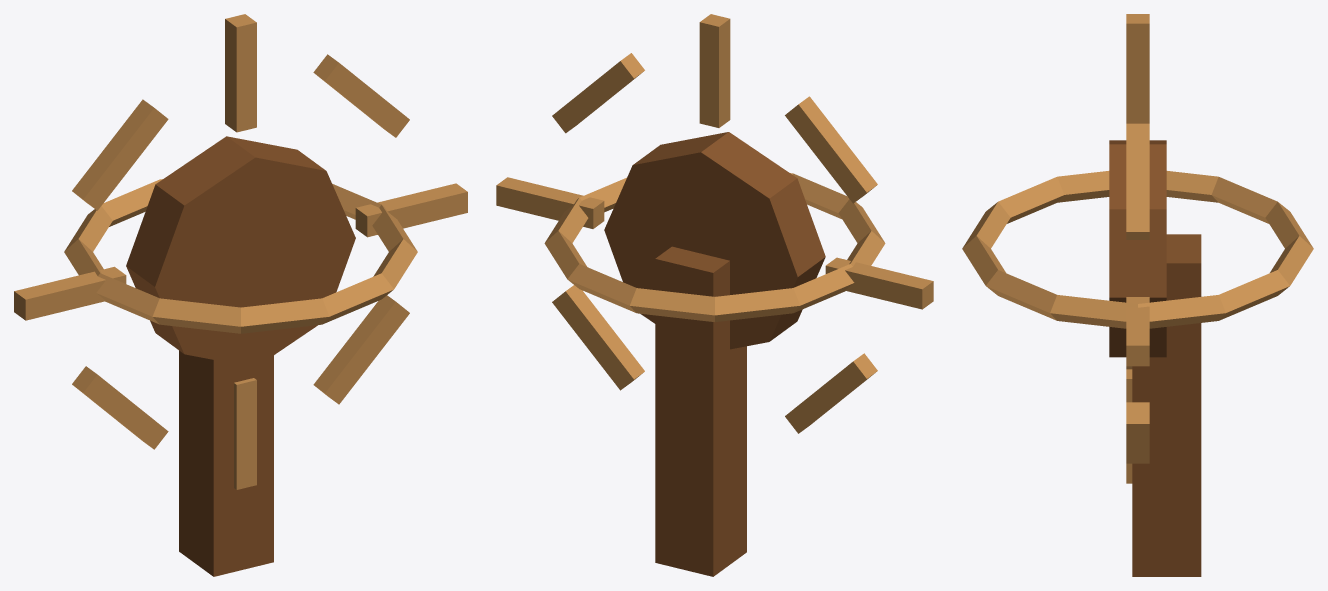
Rendered from ship_wheel.glb.
3 views of the same model, side by side, from view 1: azimuth 30°, elevation 25°; view 2: azimuth 150°, elevation 25°; view 3: azimuth 270°, elevation 25° (orthographic). The views are drawn at different scales.
Visible parts, largest first — view 1: ship_wheel; view 2: ship_wheel; view 3: ship_wheel.
Part boxes in pixels (x1,y1,x2,y2): ship_wheel: [14, 14, 467, 576]; ship_wheel: [496, 14, 933, 576]; ship_wheel: [962, 14, 1313, 576].
Size of the model in its own units: 0.88 by 1.04 by 0.61.
